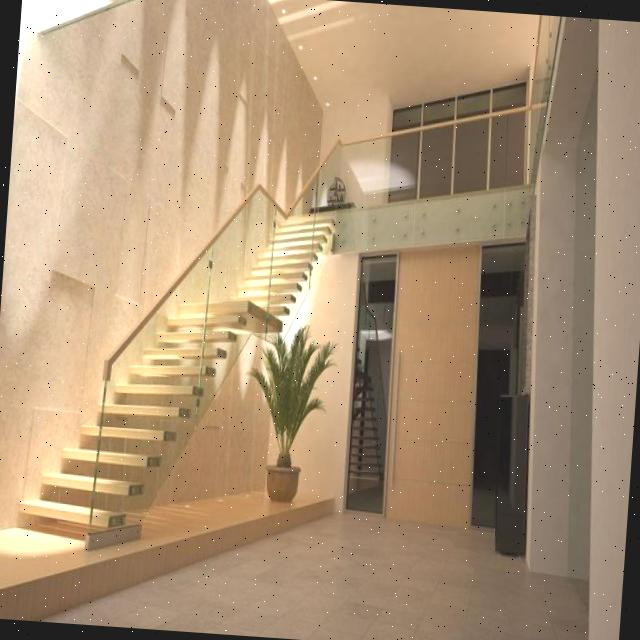stairs: (13, 191, 336, 562), (347, 373, 388, 482)
